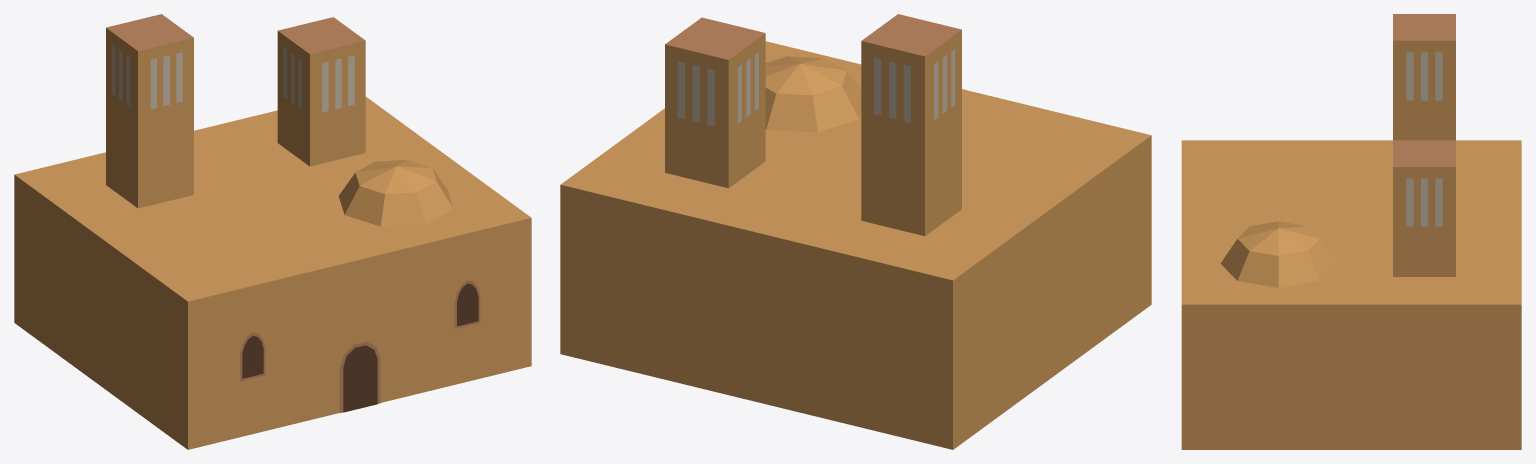
The model's file is maison_badgir.glb.
3 renders of one model, left to right at view 1: azimuth 30°, elevation 25°; view 2: azimuth 150°, elevation 25°; view 3: azimuth 270°, elevation 25°, orthographic. The views are drawn at different scales.
Visible parts, largest first — view 1: maison_badgir; view 2: maison_badgir; view 3: maison_badgir.
Part boxes in pixels (box(x1,y1,x2,y2)): maison_badgir: box(14, 14, 531, 449); maison_badgir: box(560, 14, 1151, 449); maison_badgir: box(1181, 14, 1521, 449).
Bounding box in the file's own units: 16 × 13.6 × 14.05.
Materials: 1 (1 with a texture image).
